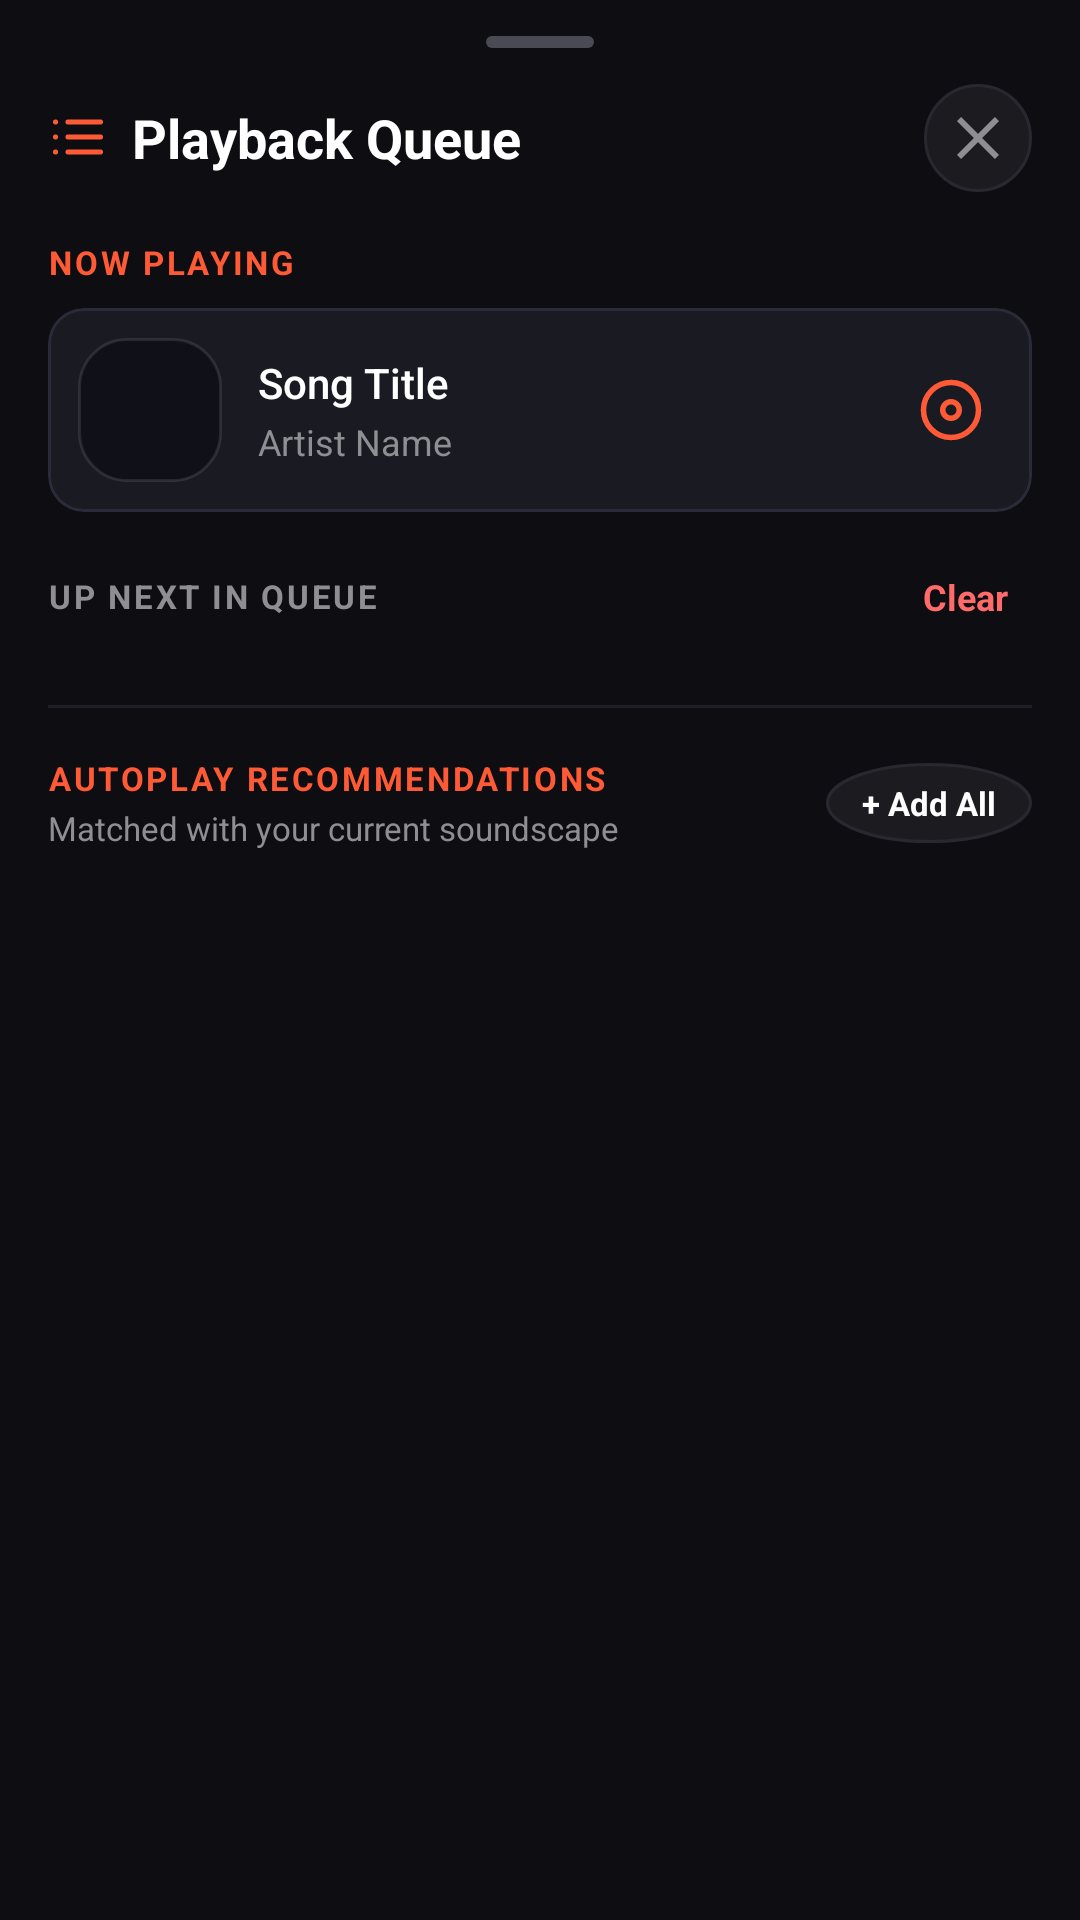

Screen size 1080 × 1920. Icon name, then its box in pixels as BBox(x1, y1, x2, y2):
close: BBox(924, 84, 1032, 192)
disc: BBox(920, 379, 982, 441)
